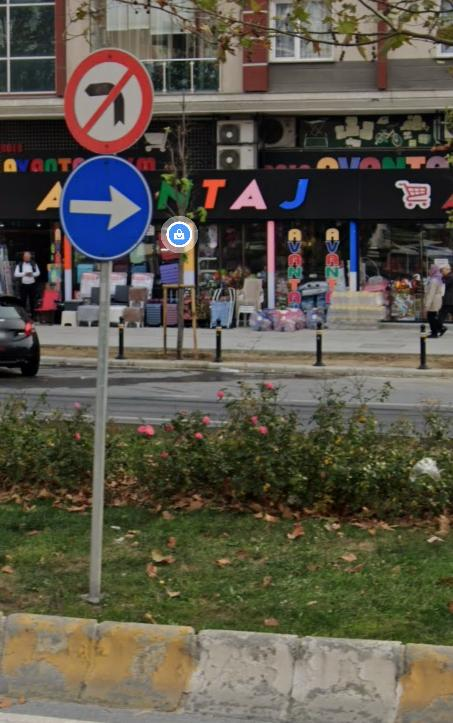leftturnsareforbidden: (62, 50, 154, 150)
turnright: (61, 158, 153, 260)
